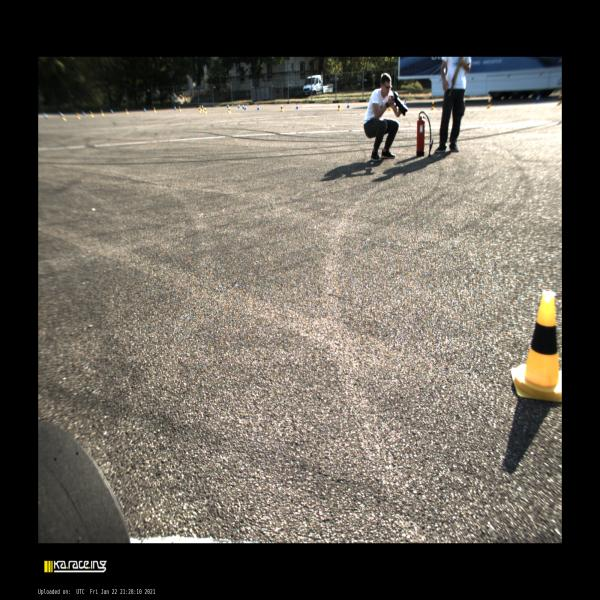blue_cone: (346, 102, 350, 108), (295, 103, 298, 109), (257, 104, 260, 110), (244, 105, 246, 110), (242, 104, 244, 109), (238, 104, 240, 108), (174, 107, 176, 110)
yellow_cone: (510, 290, 562, 402), (430, 101, 434, 110), (337, 103, 341, 111), (487, 99, 490, 109), (280, 104, 283, 112), (228, 107, 231, 113), (204, 108, 207, 114), (199, 107, 201, 113), (153, 108, 156, 112), (202, 107, 204, 112), (179, 107, 180, 111)
